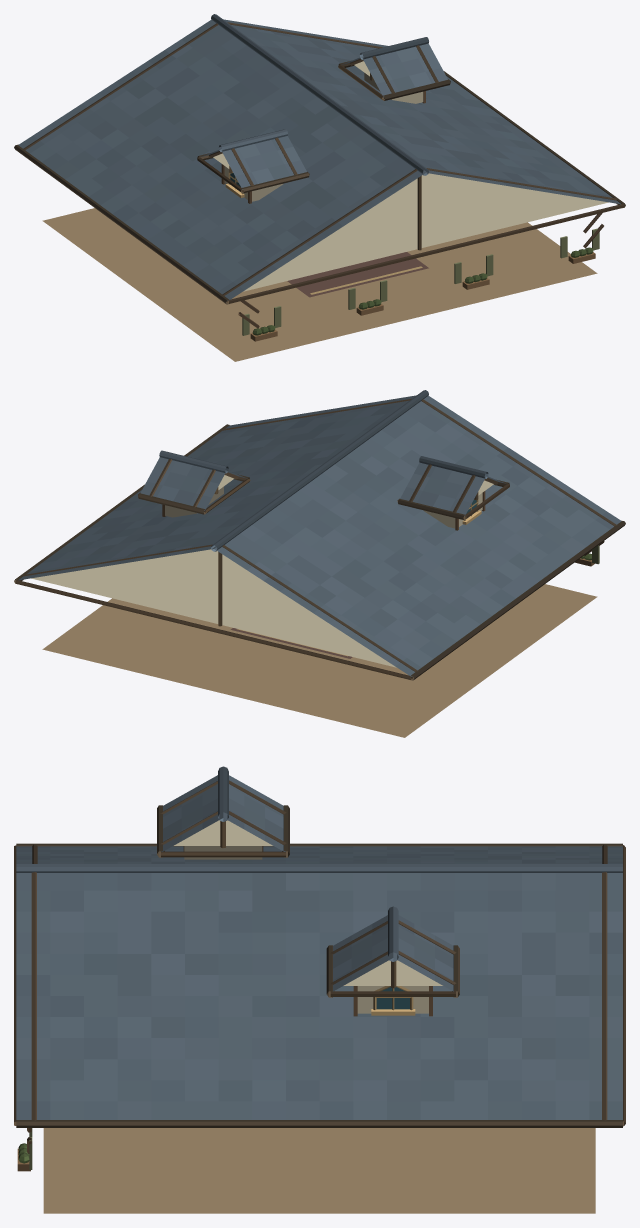
The picture shows the model from 3 angles, top to bottom: view 1: azimuth 30°, elevation 25°; view 2: azimuth 150°, elevation 25°; view 3: azimuth 270°, elevation 25°; orthographic projection. The views are drawn at different scales.
Parts seen in each view (by area): view 1: 1ec697103e28a3b18b004703b9959df9c1cca5fba1d18b0b6cca14e5082e; view 2: 1ec697103e28a3b18b004703b9959df9c1cca5fba1d18b0b6cca14e5082e; view 3: 1ec697103e28a3b18b004703b9959df9c1cca5fba1d18b0b6cca14e5082e.
Boxes of the visible parts, x1,y1,x2,y2 form: 1ec697103e28a3b18b004703b9959df9c1cca5fba1d18b0b6cca14e5082e: [14, 14, 625, 361]; 1ec697103e28a3b18b004703b9959df9c1cca5fba1d18b0b6cca14e5082e: [14, 390, 625, 737]; 1ec697103e28a3b18b004703b9959df9c1cca5fba1d18b0b6cca14e5082e: [14, 766, 625, 1213].
Bounding box in the file's own units: 14.02 × 5.32 × 12.97.
Materials: 6 (1 with a texture image).
